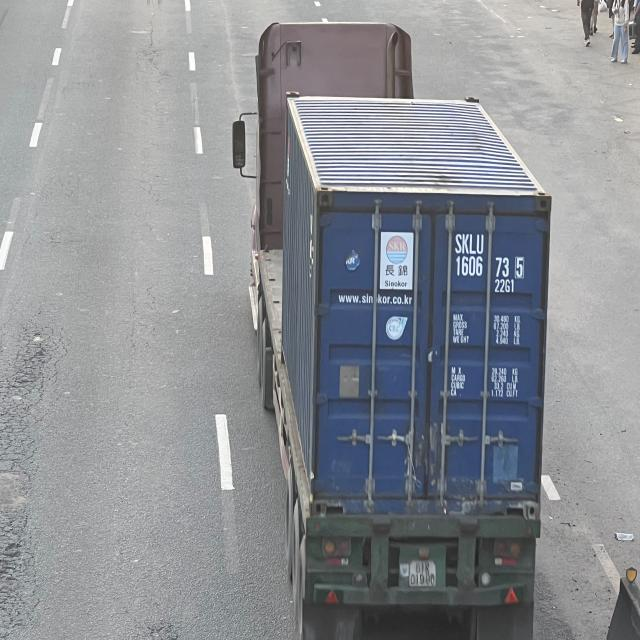container: (232, 20, 550, 640)
